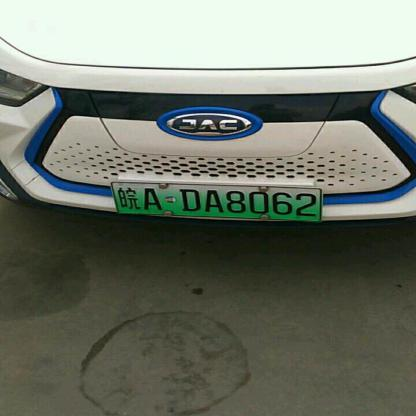lp: (111, 182, 319, 223)
